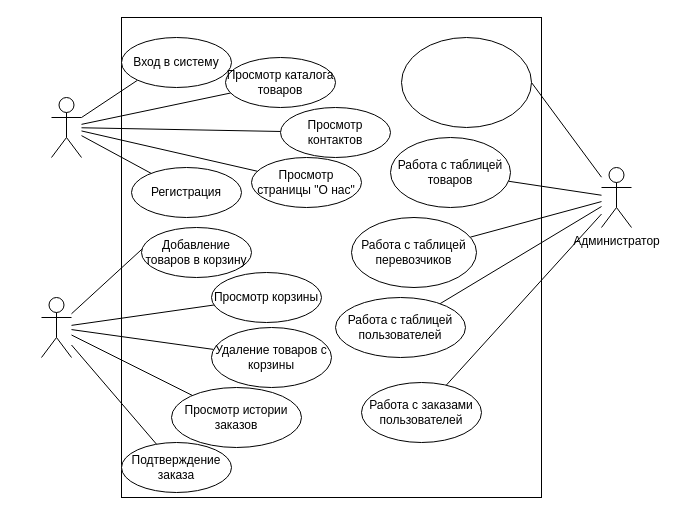
Some shapes in this 677 by 515 pixel diagram are drawn without their labels. Each missing label, with the centre of its shape:
"Гость" belongs at point (66, 127).
"Пользователь" belongs at point (56, 327).
"Работа с таблицей страховых компаний" belongs at point (466, 82).
